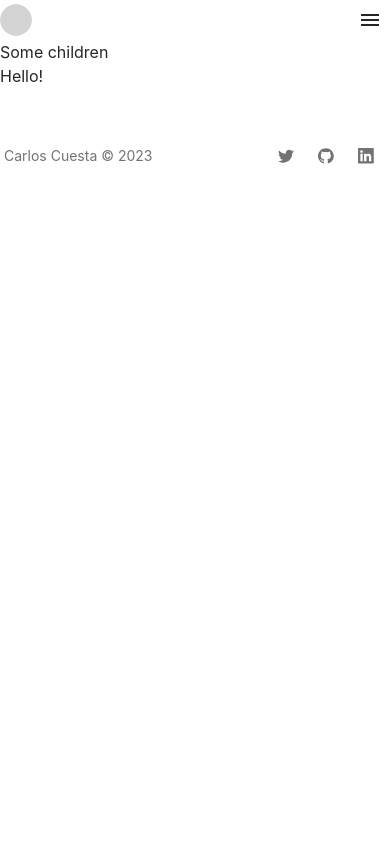
Scenario: Layout › Hamburguer › when the menu is closed › when user clicks on the icon › should open the navigation menu
This screenshot has width=390, height=844.
Step 1. Click the button named "Open navigation menu" → (370, 20), box [350,0,389,40]
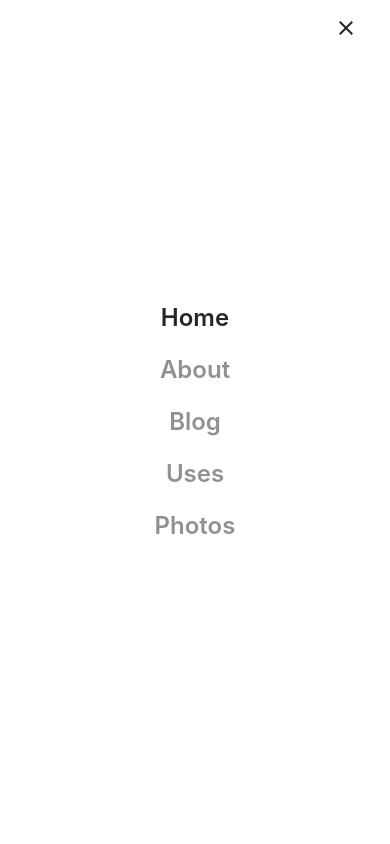
Check: the button named "Close navigation menu" is shown, box [326,8,366,48]
